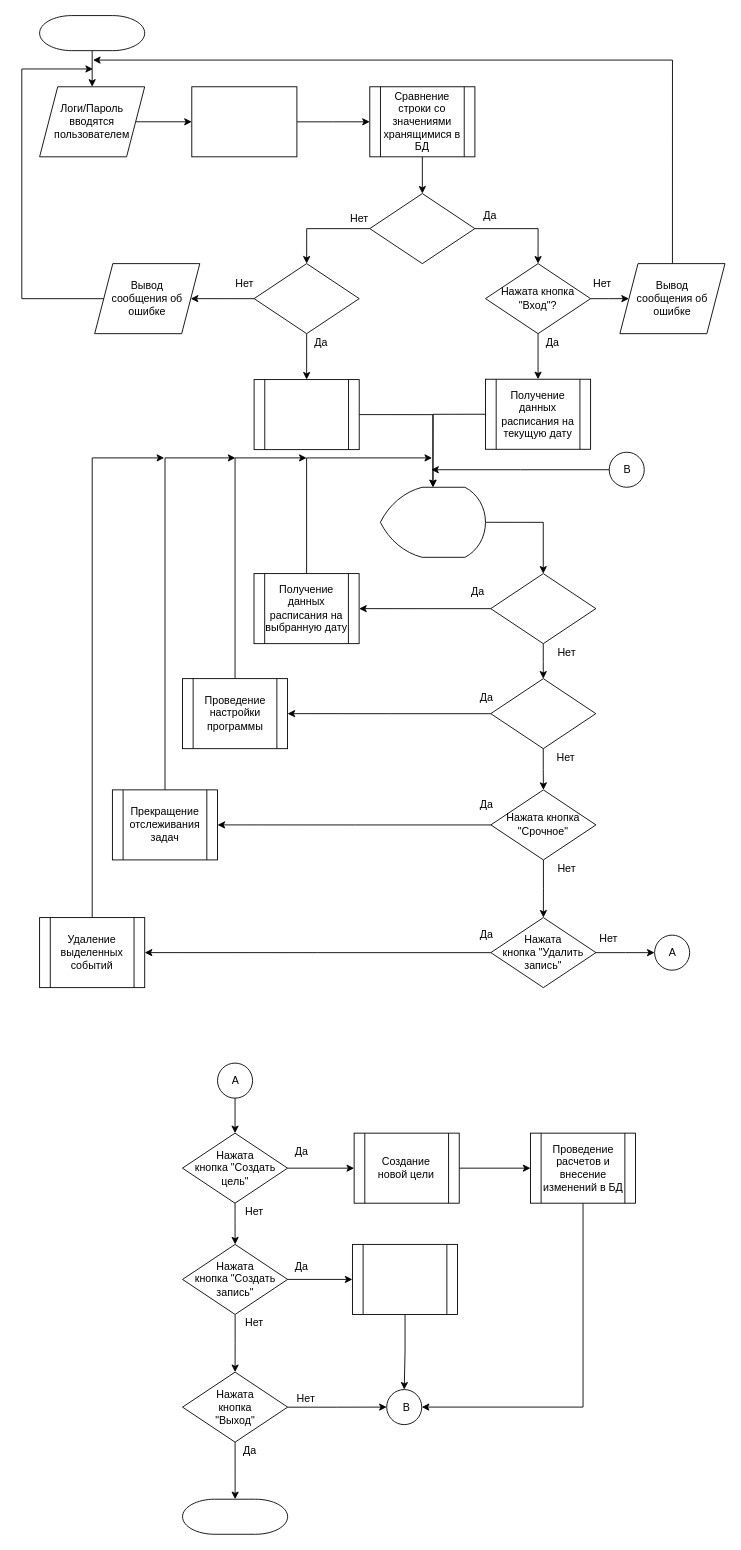
Image size: 741x1550. Some labels were removed from this diagram. Here are the shapes that lost their labels. From the top down, the centre of each, then its label:
the point at 92,33: Начало
the point at 244,121: Расчет хэш-функции в нотации MD5
the point at 422,228: Строки совпадают?
the point at 306,298: Нажата кнопка "Регистрация"
the point at 306,414: Определение приоритетов пользователя
the point at 432,521: Отображение главного окна программы
the point at 543,608: Выбрана новая дата в календаре?
the point at 543,713: Нажата кнопка "Настройка"
the point at 405,1279: Внесение новой записи в БД
the point at 235,1516: Конец
